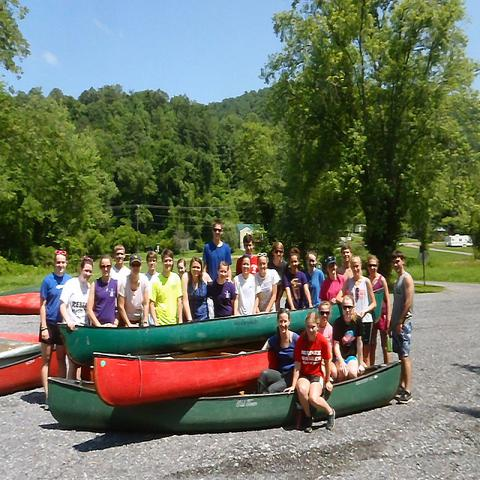bus: (445, 236, 468, 248)
